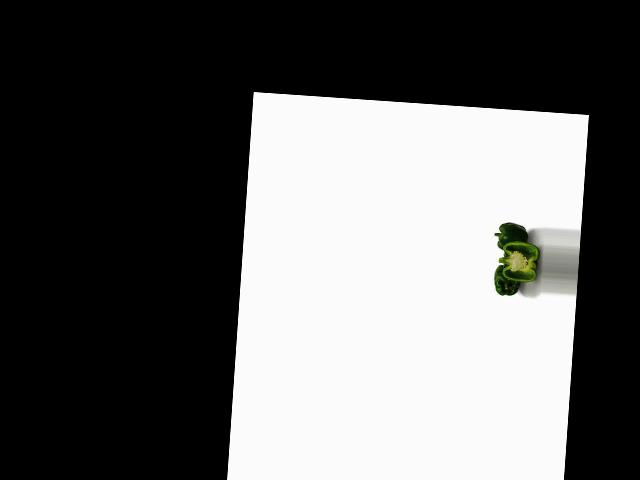bell_pepper: (490, 261, 525, 299)
